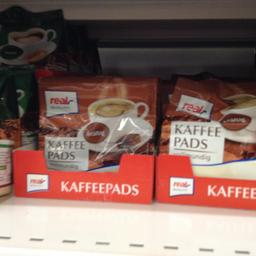coffee: (34, 73, 156, 169), (156, 74, 254, 178)
